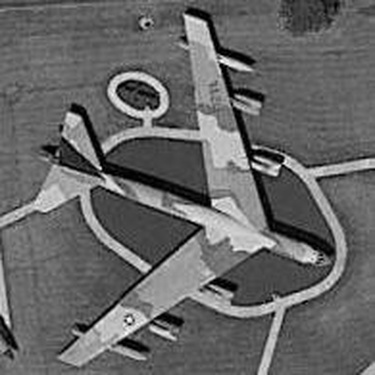airplane: (16, 8, 340, 369)
